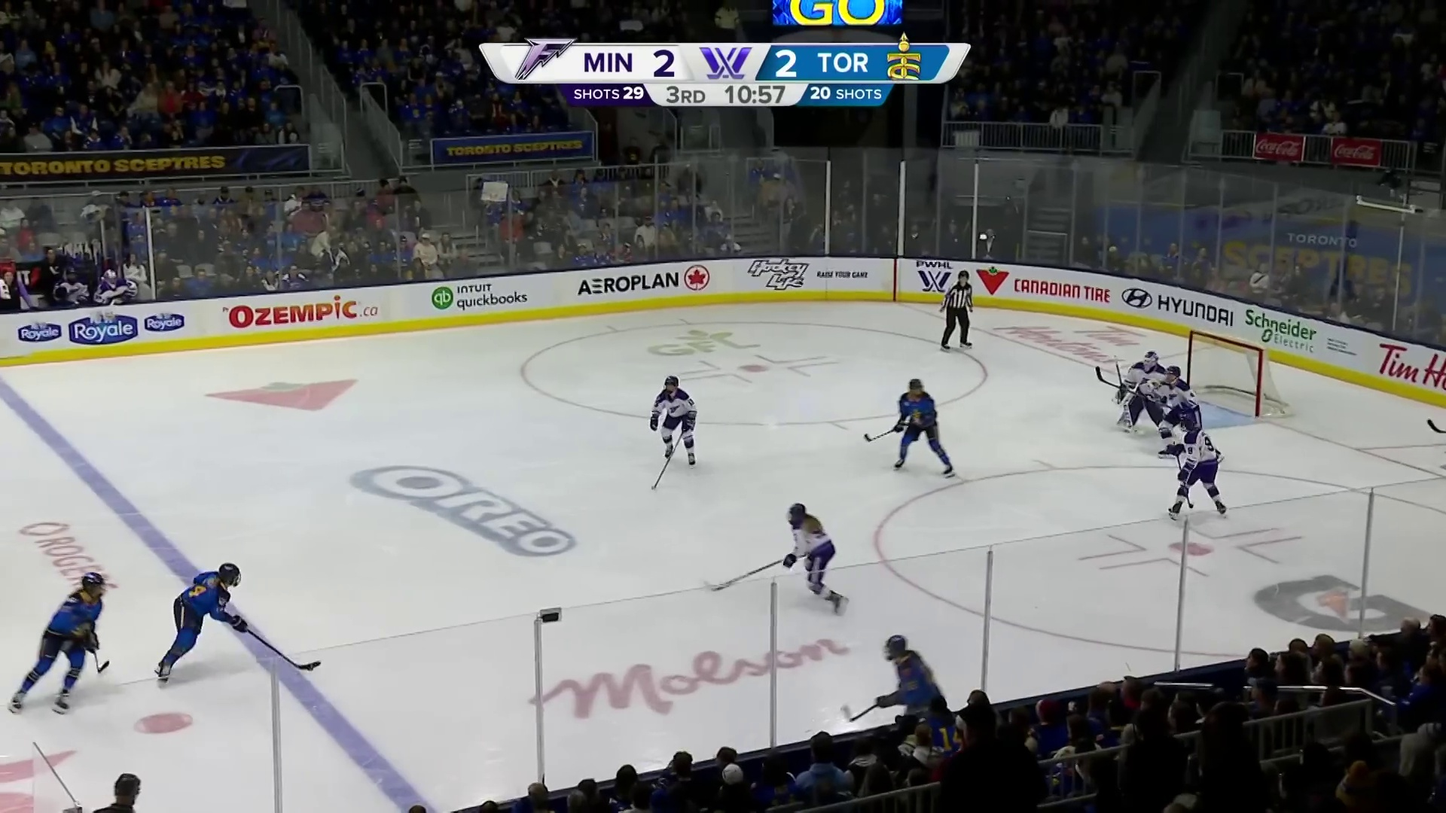goaltender: (1110, 349, 1164, 433)
player: (7, 569, 107, 712), (154, 562, 248, 681), (782, 502, 850, 615), (893, 379, 956, 478), (1167, 417, 1227, 518), (1141, 364, 1202, 456), (649, 374, 698, 468)
puck: (304, 663, 316, 671)
referee: (937, 269, 974, 351)
